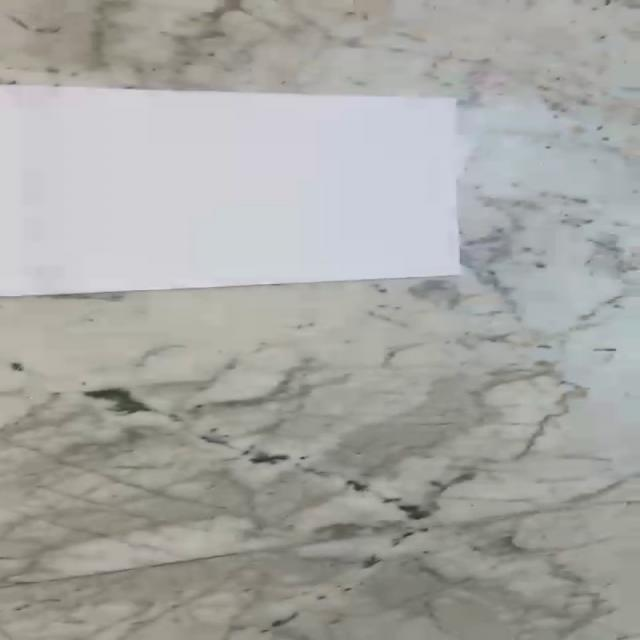road: (0, 85, 464, 298)
